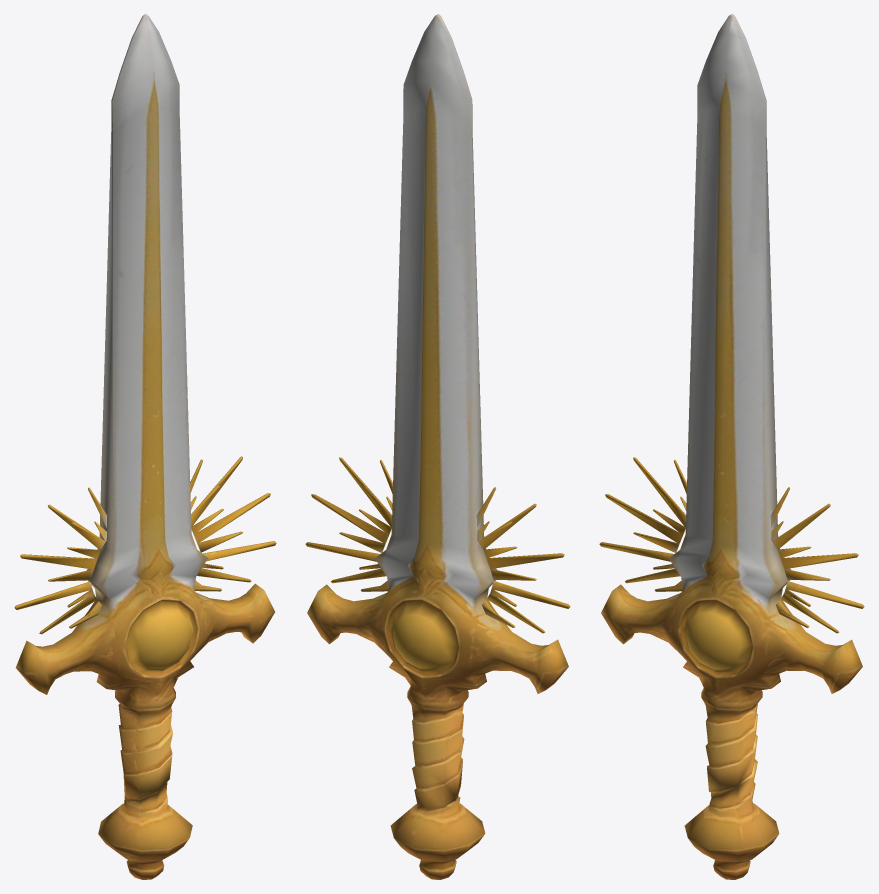
The model's file is solheim_last_light_of_the_dawn.glb.
3 renders of one model, left to right at view 1: azimuth 30°, elevation 25°; view 2: azimuth 150°, elevation 25°; view 3: azimuth 330°, elevation 25°, orthographic.
Parts seen in each view (by area): view 1: tripo_node_cf660283-3bed-4033-a83d-1311b2d5381f; view 2: tripo_node_cf660283-3bed-4033-a83d-1311b2d5381f; view 3: tripo_node_cf660283-3bed-4033-a83d-1311b2d5381f.
Part boxes in pixels (bbox=[...]): tripo_node_cf660283-3bed-4033-a83d-1311b2d5381f: bbox=[14, 14, 276, 879]; tripo_node_cf660283-3bed-4033-a83d-1311b2d5381f: bbox=[305, 14, 570, 879]; tripo_node_cf660283-3bed-4033-a83d-1311b2d5381f: bbox=[599, 14, 864, 879].
Size of the model in its own units: 0.6361 by 2 by 0.2081.
Materials: 1 (1 with a texture image).
